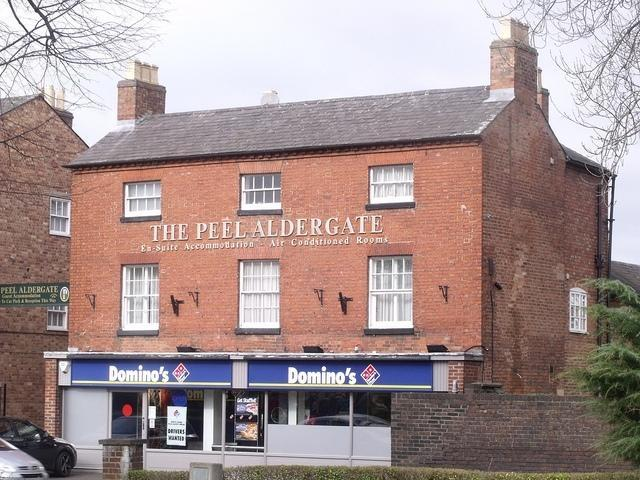car: (0, 418, 78, 478), (0, 436, 48, 480), (298, 413, 390, 427)
